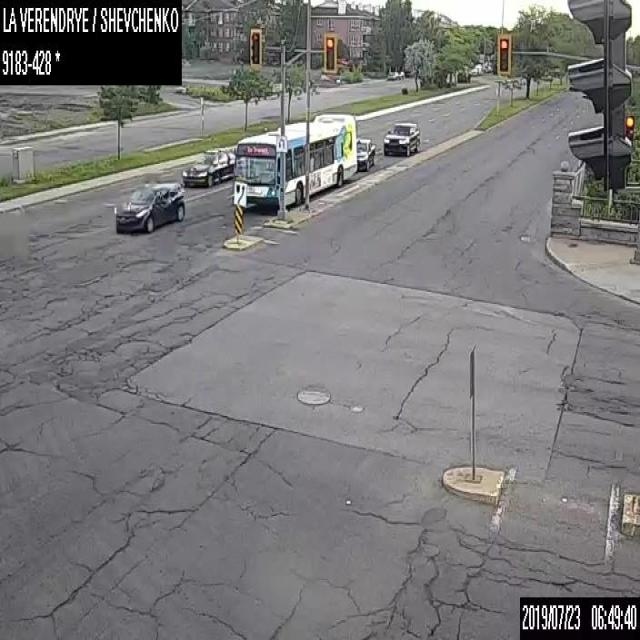bus: (233, 112, 356, 206)
vehicle: (114, 178, 184, 232), (182, 147, 235, 186), (382, 119, 420, 156), (356, 136, 375, 170), (387, 70, 398, 80), (396, 70, 404, 79)
